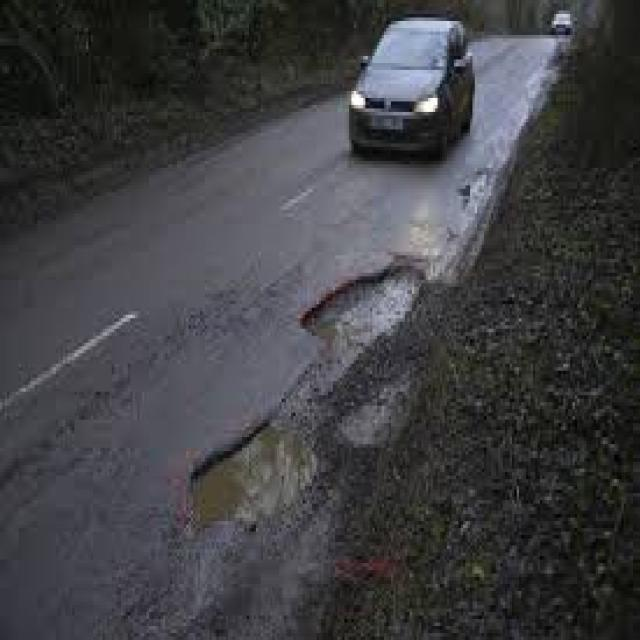Pothole: (189, 262, 426, 535)
